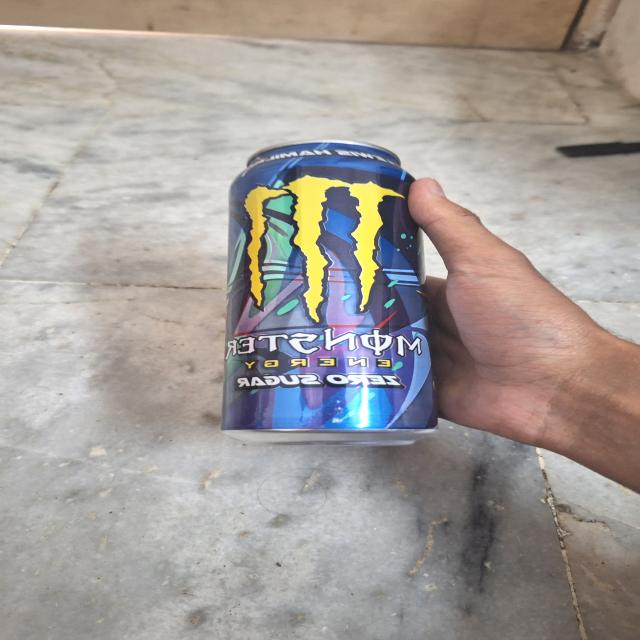Monster LH44: (211, 140, 440, 440)
